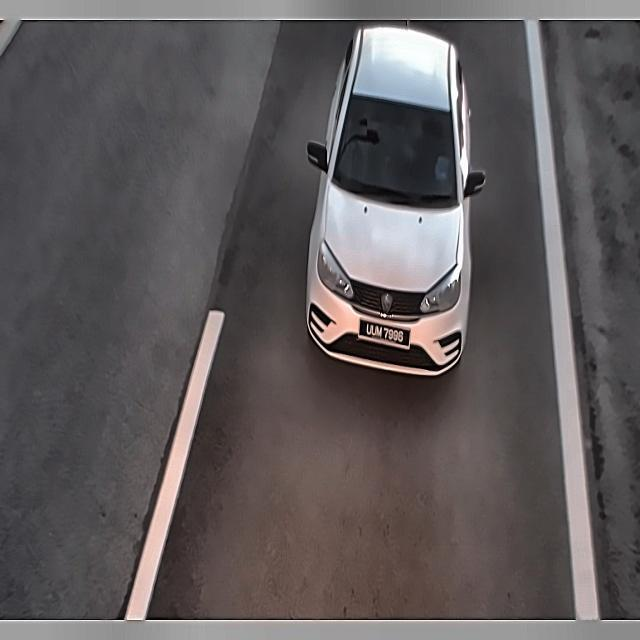car: (356, 315, 416, 352)
